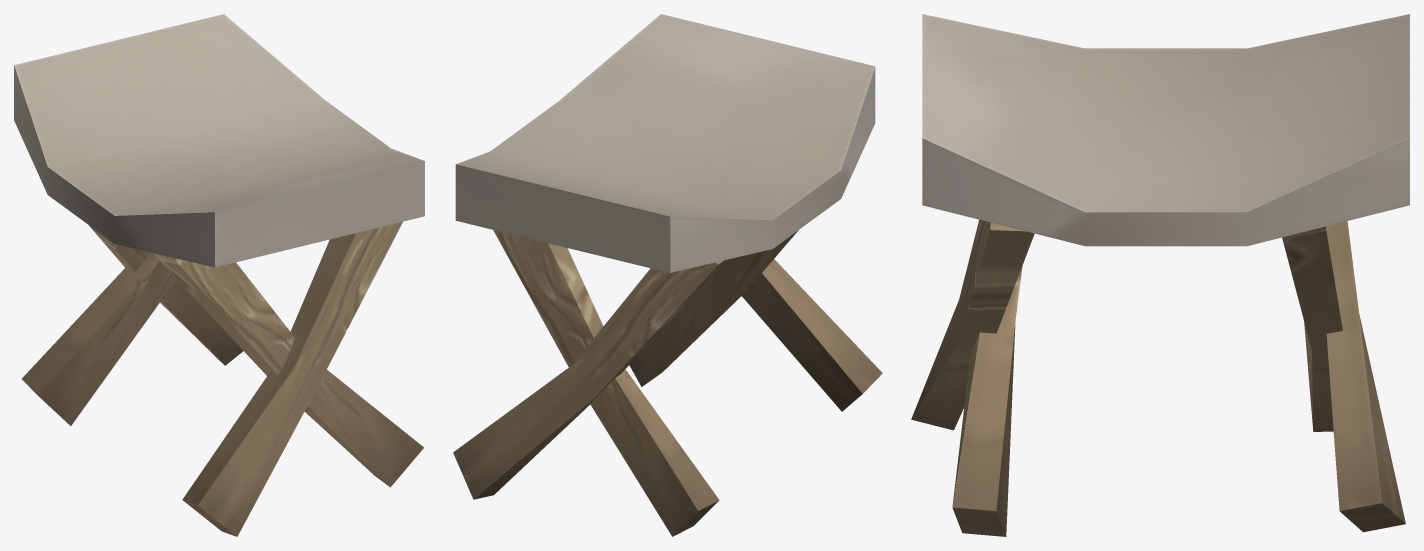
The model's file is Egypt_Village_Props_23.FBX.
3 renders of one model, left to right at view 1: azimuth 30°, elevation 25°; view 2: azimuth 150°, elevation 25°; view 3: azimuth 270°, elevation 25°, orthographic. The views are drawn at different scales.
Parts seen in each view (by area): view 1: Egypt_Village_Props_23; view 2: Egypt_Village_Props_23; view 3: Egypt_Village_Props_23.
Boxes of the visible parts, x1,y1,x2,y2 form: Egypt_Village_Props_23: (14, 14, 424, 536); Egypt_Village_Props_23: (453, 14, 882, 536); Egypt_Village_Props_23: (911, 14, 1409, 536).
Bounding box in the file's own units: 46.34 × 53.82 × 59.64.
